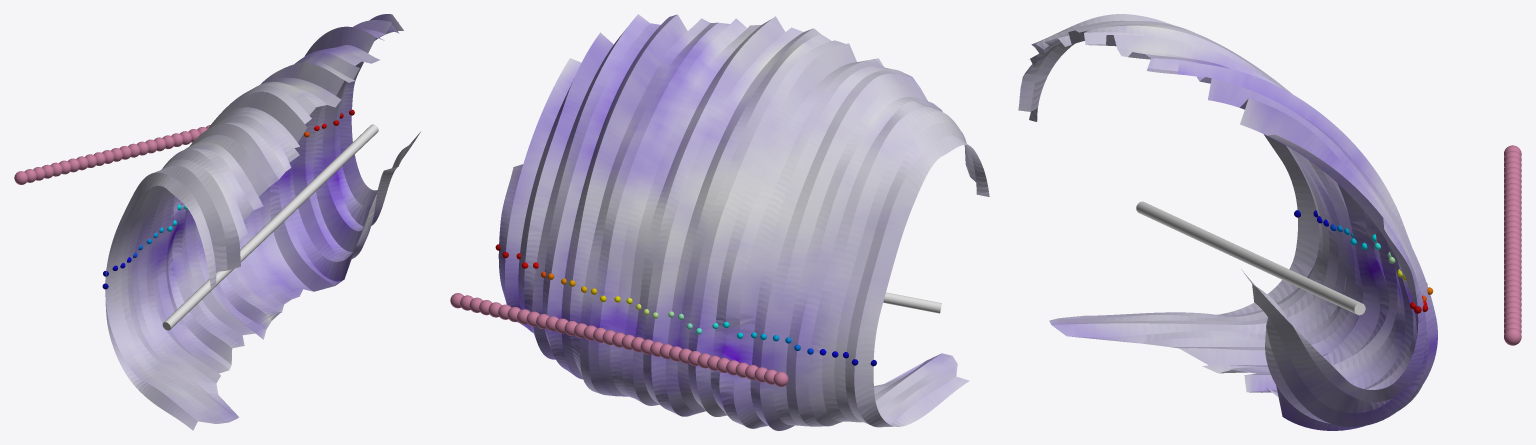
File: Monochrome_bluehue_data_vole_65_7E_id2_L23.gltf
3 renders of one model, left to right at view 1: azimuth 30°, elevation 25°; view 2: azimuth 150°, elevation 25°; view 3: azimuth 270°, elevation 25°, orthographic. The views are drawn at different scales.
Size of the model in its own units: 3.54 by 3.45 by 3.96.
